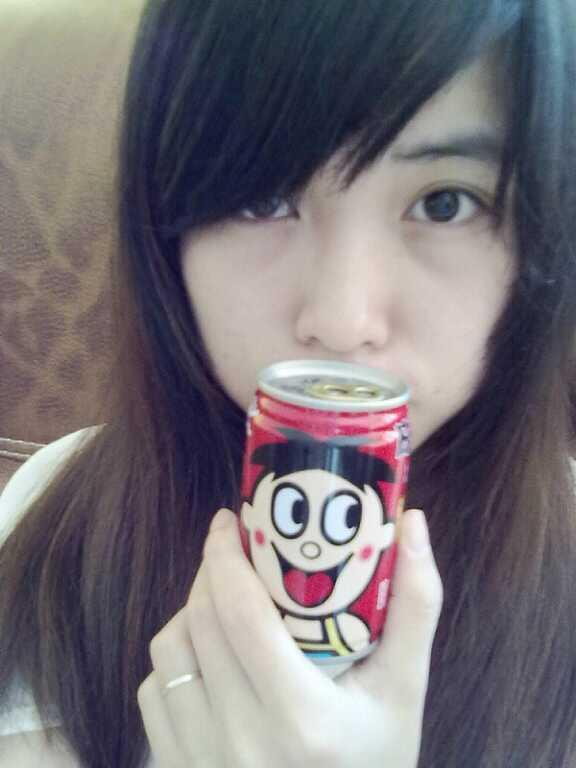wangzai: (230, 422, 406, 656)
